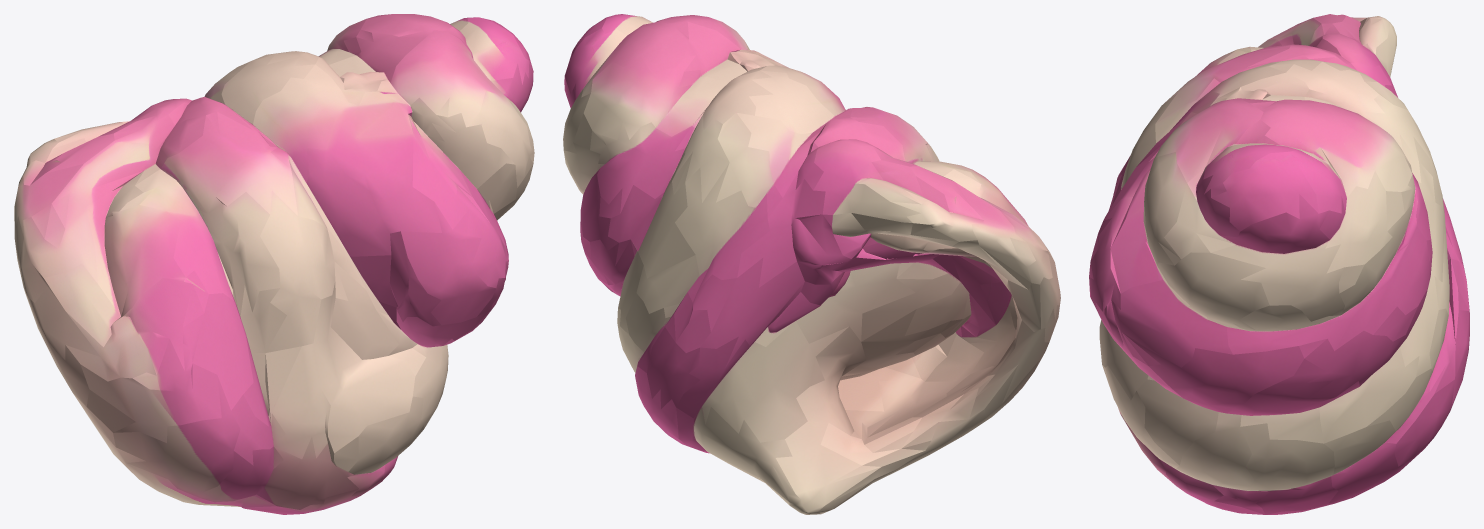
3 views of the same model, side by side, from view 1: azimuth 30°, elevation 25°; view 2: azimuth 150°, elevation 25°; view 3: azimuth 270°, elevation 25° (orthographic). The views are drawn at different scales.
Size of the model in its own units: 1.9 by 1.58 by 1.19.
Materials: 1 (1 with a texture image).
